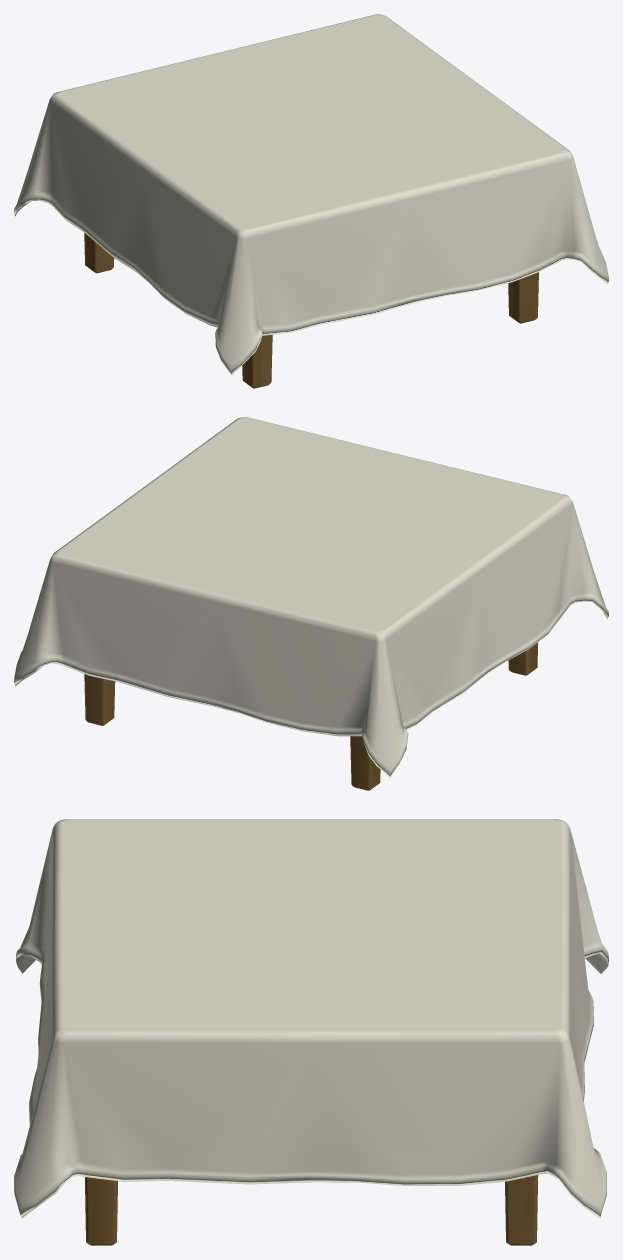
3 renders of one model, top to bottom at view 1: azimuth 30°, elevation 25°; view 2: azimuth 150°, elevation 25°; view 3: azimuth 270°, elevation 25°, orthographic. The views are drawn at different scales.
Size of the model in its own units: 20 by 8.48 by 20.
2 materials, 2 textured.
